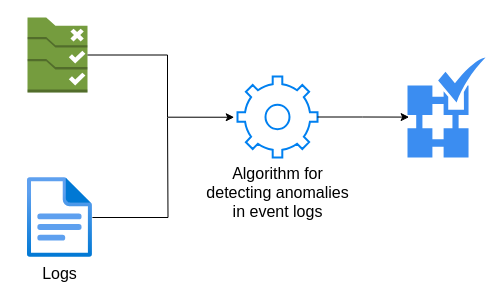
Image size: 503x301. Some labels were removed from this diagram. The shapes that lost their labels are listed below. From the top down, each one's box as (x1, y1, x2, y2) in pixels, then its label:
(26, 16, 88, 92): Set of rules
(407, 57, 485, 157): Detected anomalies
